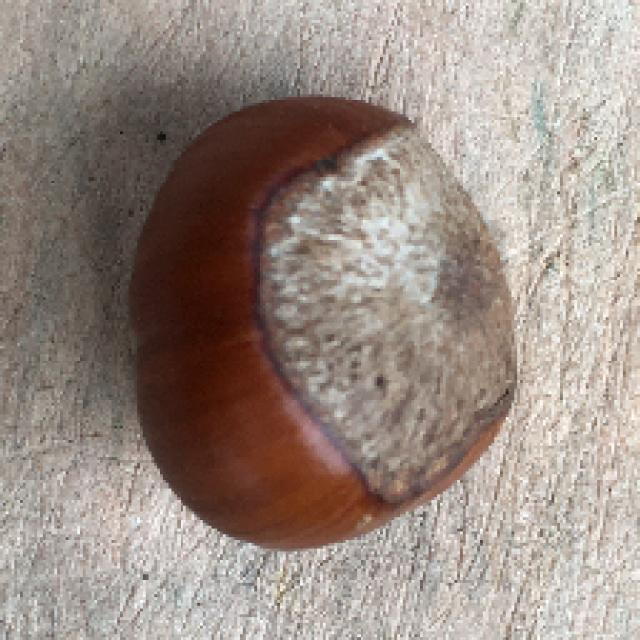qualityHazelnut: (119, 90, 526, 548)
